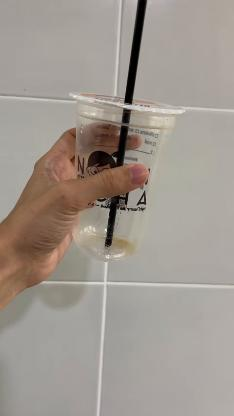Plastic Cup: (70, 93, 186, 265)
